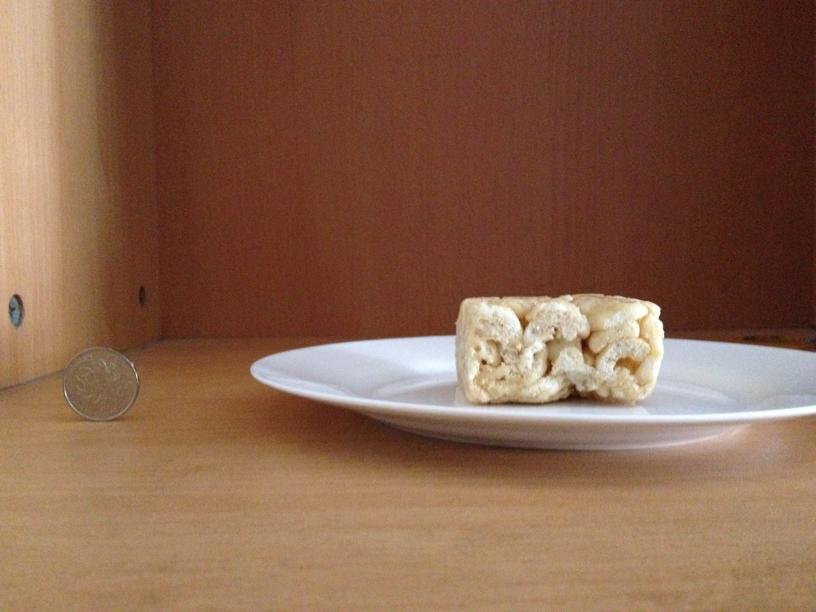coin: (61, 348, 140, 421)
sachima: (444, 286, 662, 408)
